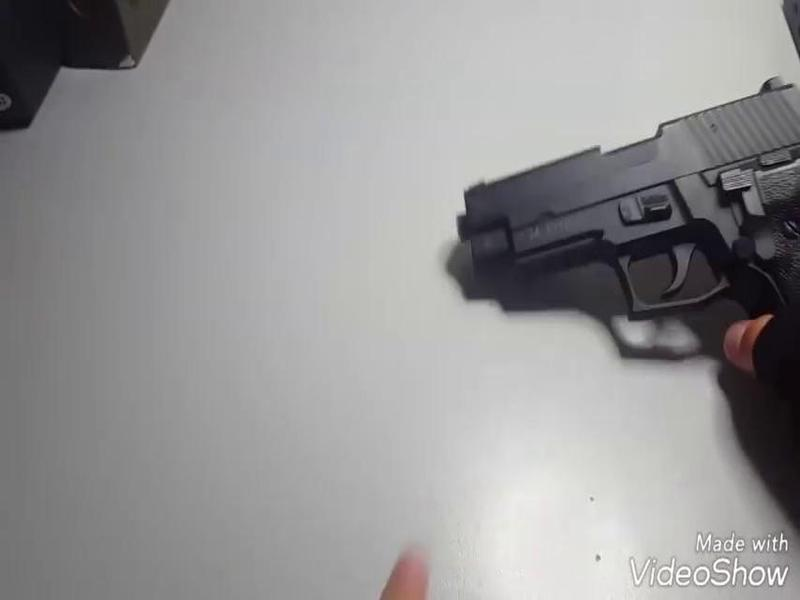Pistola: (418, 68, 800, 378)
